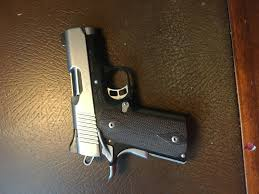gun: (61, 21, 195, 180)
